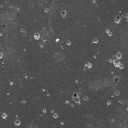corrosion: (72, 93, 82, 105), (59, 8, 69, 19), (112, 14, 122, 24), (114, 51, 123, 60), (12, 118, 22, 126), (84, 60, 92, 69), (116, 62, 125, 70), (113, 89, 122, 97), (33, 32, 41, 40), (105, 29, 113, 37), (1, 113, 9, 120), (51, 112, 59, 119), (113, 75, 120, 83), (43, 7, 51, 14), (65, 39, 72, 46), (91, 38, 99, 44), (105, 100, 111, 106), (64, 100, 70, 106), (55, 37, 60, 43), (8, 81, 14, 86), (42, 108, 47, 114), (41, 87, 47, 92), (1, 52, 5, 59), (74, 79, 79, 84), (59, 122, 65, 126), (21, 100, 27, 104)
